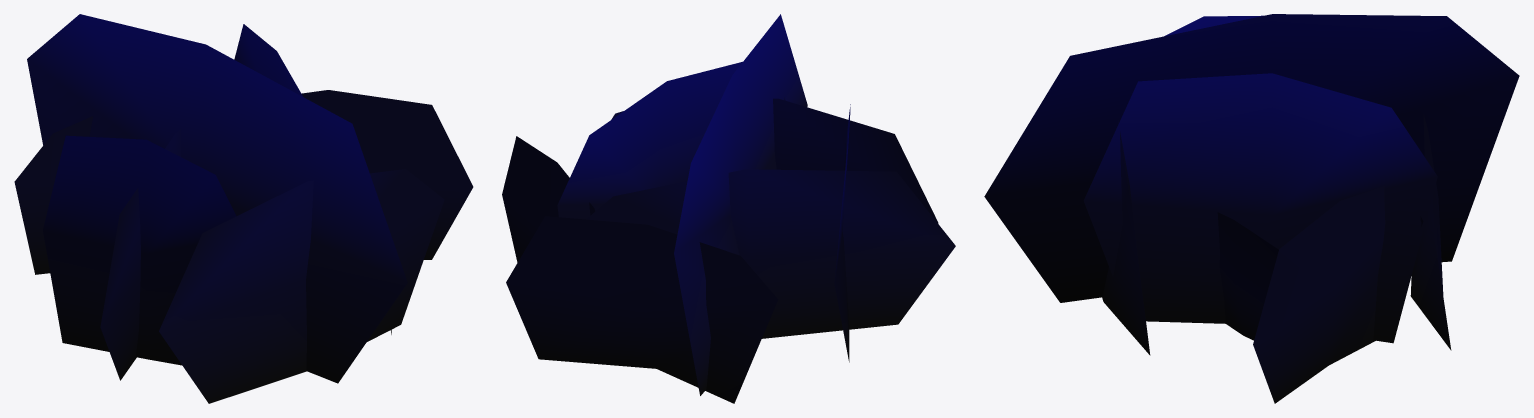
File: SM_Grass_S_Patch_S_01.fbx
3 views of the same model, side by side, from view 1: azimuth 30°, elevation 25°; view 2: azimuth 150°, elevation 25°; view 3: azimuth 270°, elevation 25° (orthographic). The views are drawn at different scales.
Visible parts, largest first — view 1: SM_Grass_S_Patch_S_01; view 2: SM_Grass_S_Patch_S_01; view 3: SM_Grass_S_Patch_S_01.
Boxes of the visible parts, x1=… form: SM_Grass_S_Patch_S_01: x1=14, y1=14, x2=473, y2=403; SM_Grass_S_Patch_S_01: x1=502, y1=14, x2=955, y2=403; SM_Grass_S_Patch_S_01: x1=984, y1=14, x2=1519, y2=403.
Bounding box in the file's own units: 65.78 × 69.35 × 39.65.
